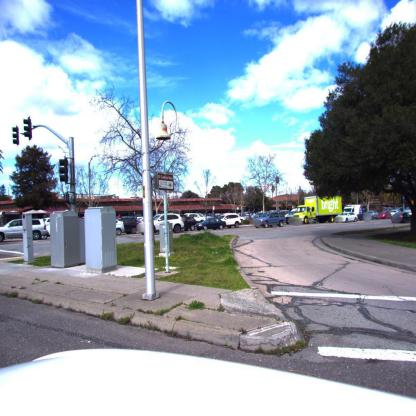car: (0, 218, 51, 244), (153, 213, 185, 234), (254, 211, 290, 228), (183, 213, 206, 231), (116, 217, 140, 234), (334, 208, 358, 223), (200, 216, 225, 230), (219, 214, 242, 229), (391, 209, 410, 223), (117, 218, 127, 234), (364, 211, 379, 221)
traffic light: (24, 117, 34, 141), (59, 158, 68, 184), (13, 127, 20, 146)
truck: (302, 197, 343, 224)
